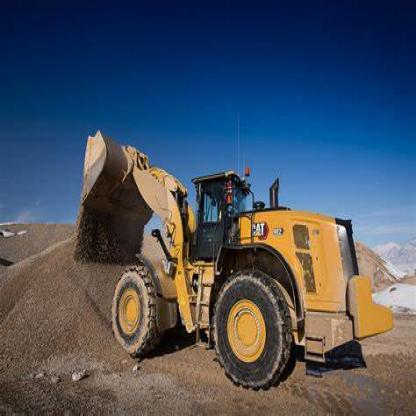bull_dozer/loader/grader: (79, 119, 398, 397)
